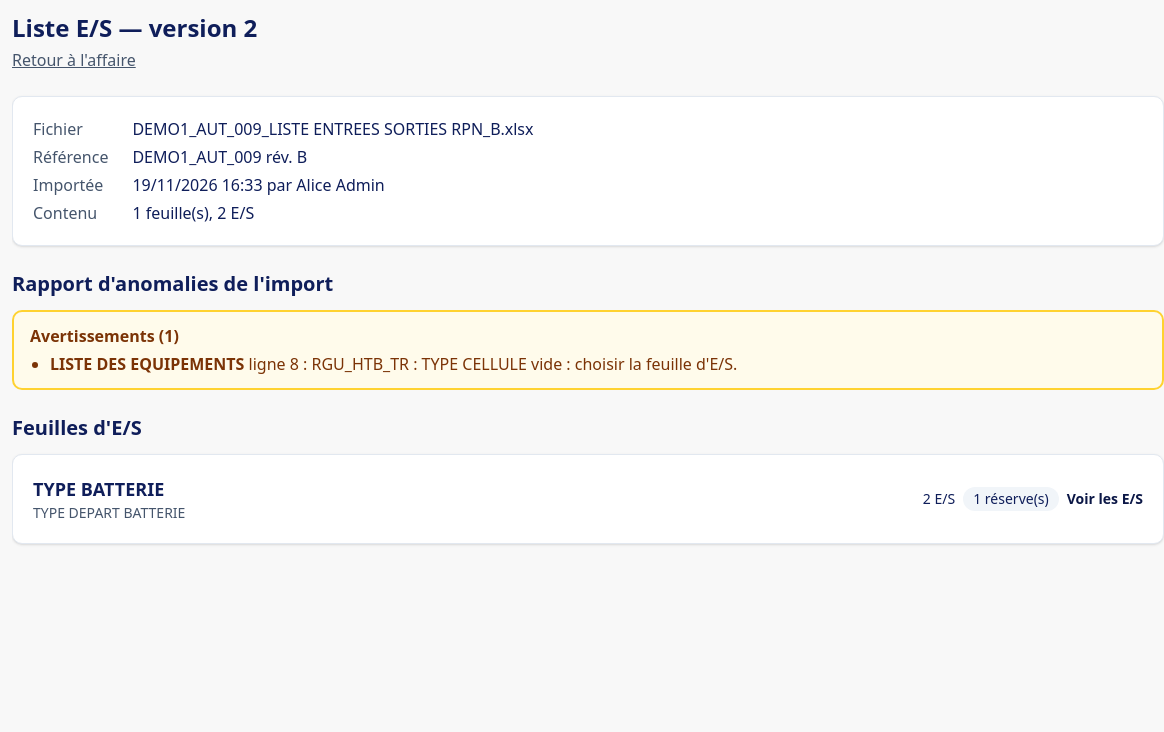
IoListePage : une version de la liste E/S est consultable (spec §4.6, anomalie 9) › affiche le fichier, le rapport d'anomalies de l'import et, à la demande, les E/S d'une feuille
Expected: the heading "Liste E/S — version 2" is shown, [12,12,257,44]
Expected: the list item "RGU_HTB_TR : TYPE CELLULE vide" is shown, [312,353,737,375]
Click the button "TYPE BATTERIE".
click(99, 489)  # box [33,475,1143,523]
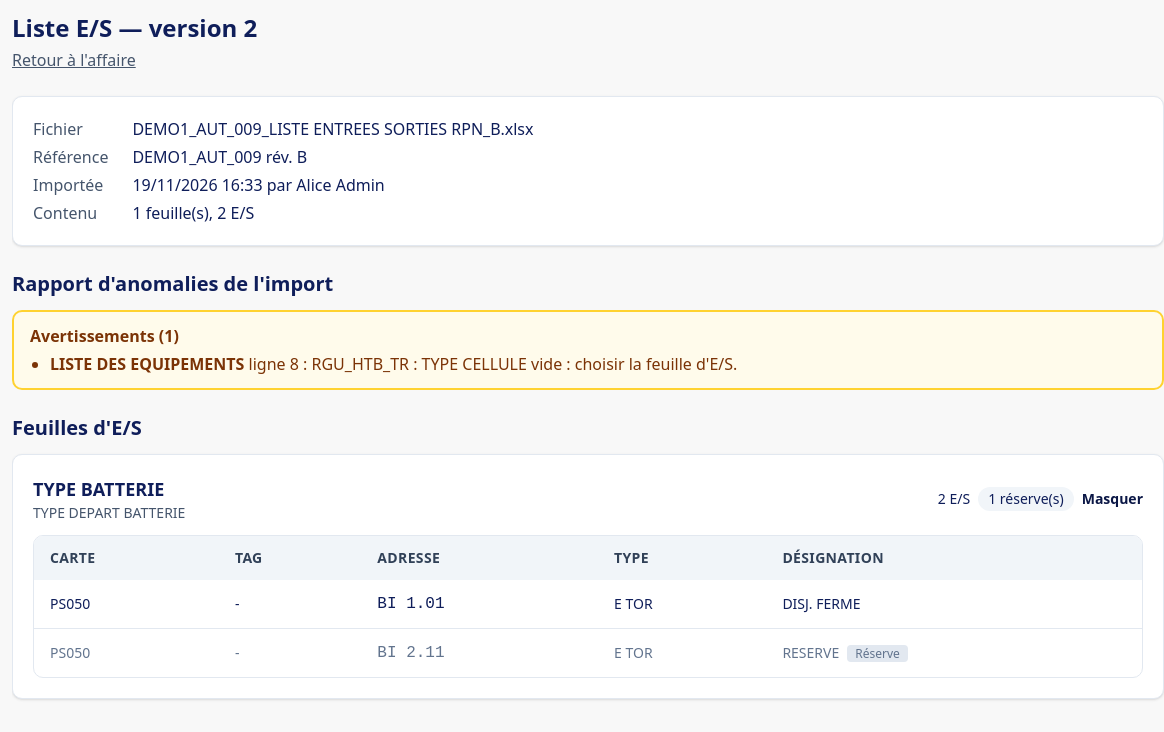
Now the text "DISJ. FERME" is shown, box [766,580,1142,628]
Now the text "BI 2.11" is shown, box [361,628,598,677]
